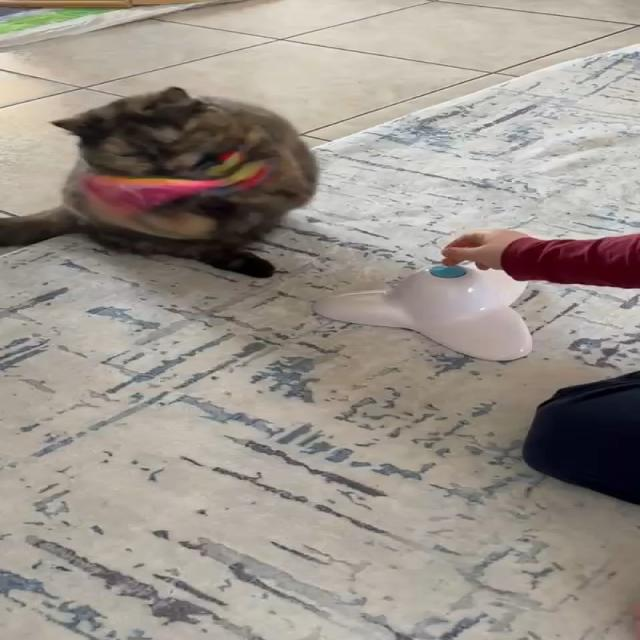authorized: (0, 85, 319, 278)
